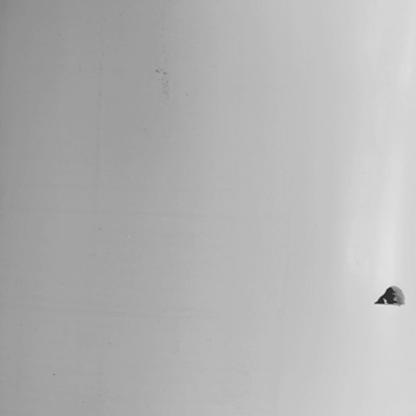kongdong: (364, 281, 410, 312)
